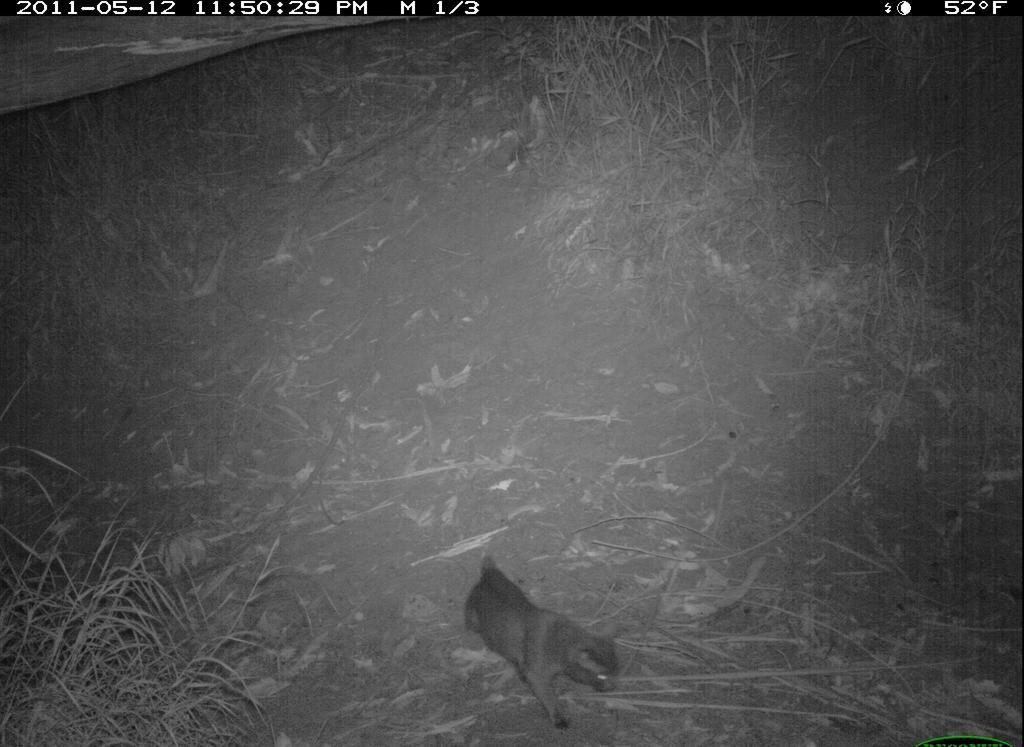cat: (459, 551, 641, 740)
